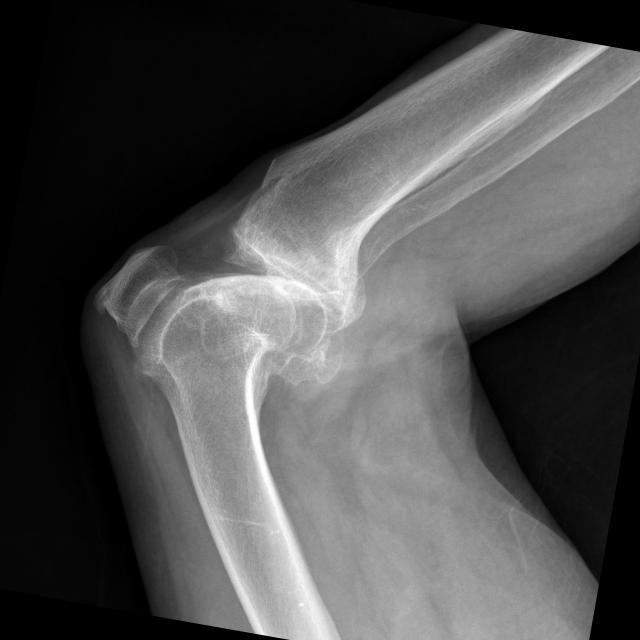Knee: (79, 158, 378, 430)
